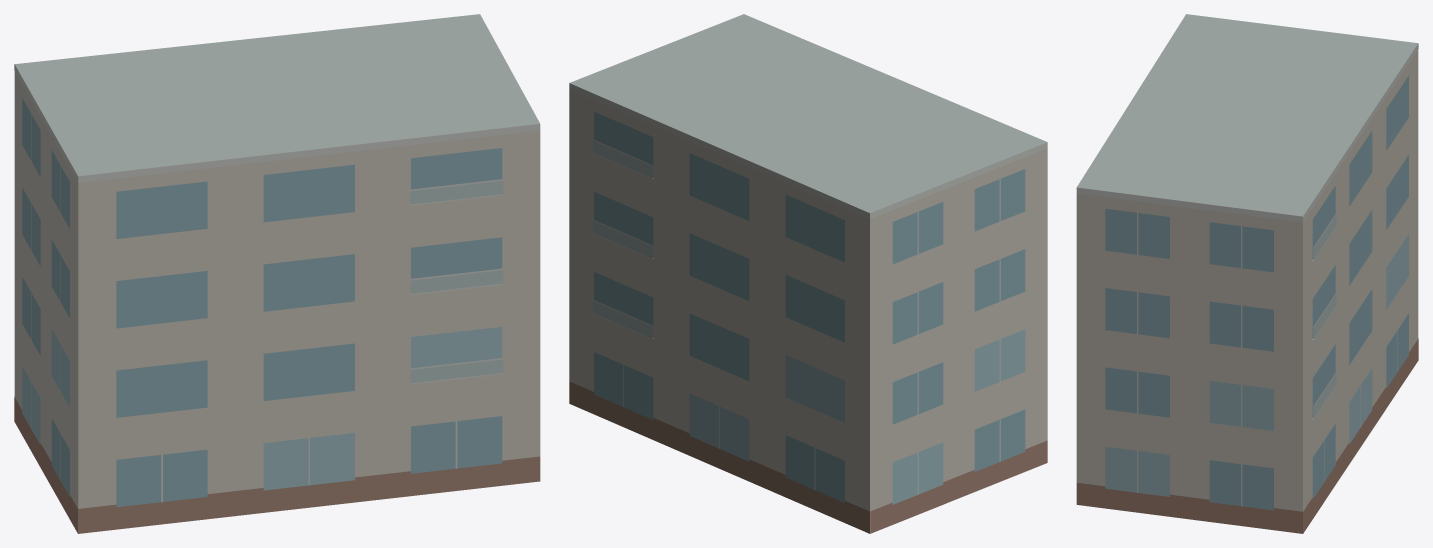
The model's file is survey-upis-32706306.glb.
3 renders of one model, left to right at view 1: azimuth 30°, elevation 25°; view 2: azimuth 150°, elevation 25°; view 3: azimuth 270°, elevation 25°, orthographic. The views are drawn at different scales.
Visible parts, largest first — view 1: survey-upis-32706306.tmp; view 2: survey-upis-32706306.tmp; view 3: survey-upis-32706306.tmp.
Boxes of the visible parts, x1,y1,x2,y2 form: survey-upis-32706306.tmp: [14, 14, 540, 533]; survey-upis-32706306.tmp: [569, 14, 1047, 533]; survey-upis-32706306.tmp: [1076, 14, 1418, 533].
Size of the model in its own units: 17.81 by 13 by 12.7.
